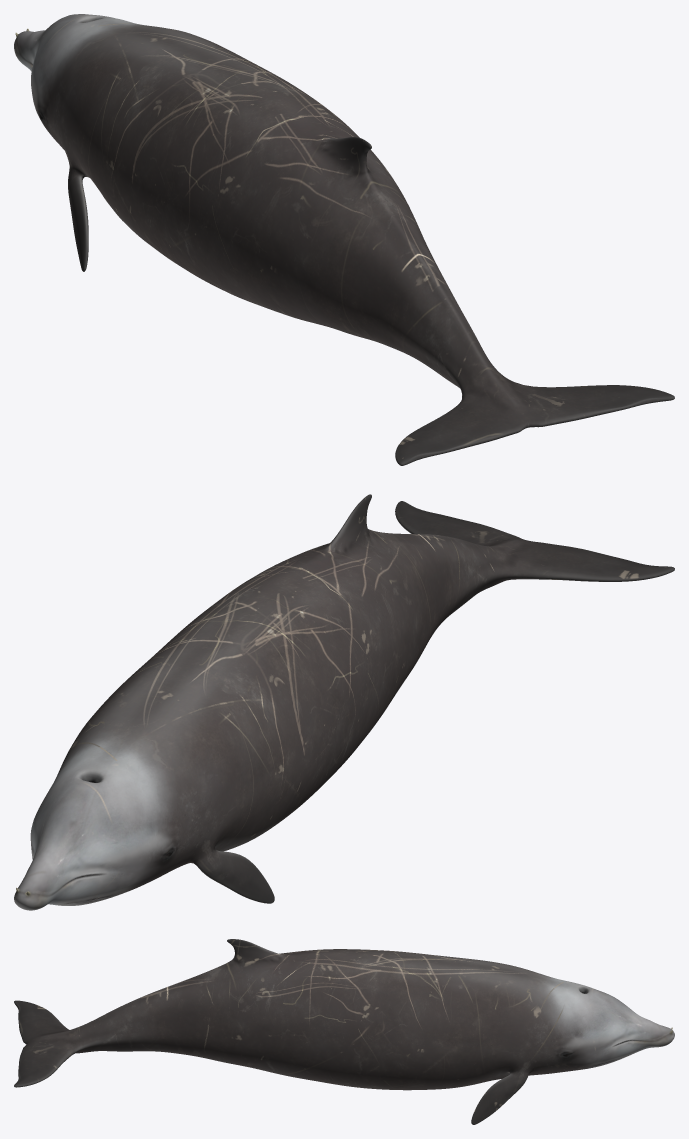
File: model-ziphius-cavirostris.glb
3 views of the same model, one above another, from view 1: azimuth 30°, elevation 25°; view 2: azimuth 150°, elevation 25°; view 3: azimuth 270°, elevation 25° (orthographic). The views are drawn at different scales.
Visible parts, largest first — view 1: polySurface1; view 2: polySurface1; view 3: polySurface1.
Boxes of the visible parts, x1,y1,x2,y2 form: polySurface1: [14, 14, 674, 465]; polySurface1: [14, 494, 674, 910]; polySurface1: [14, 939, 674, 1124].
Bounding box in the file's own units: 1.89 × 1.61 × 6.17.
Materials: 1 (1 with a texture image).
